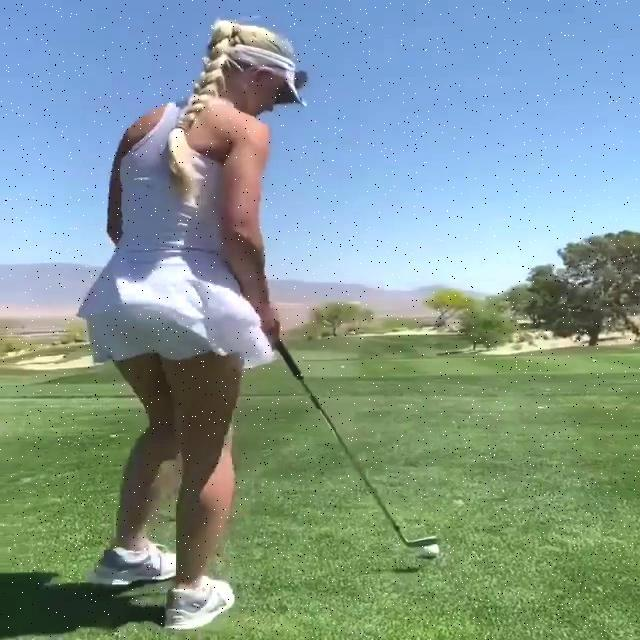golf ball: (423, 545, 440, 557)
golf club-handle: (271, 342, 441, 547)
golf club-head: (409, 535, 440, 546)
